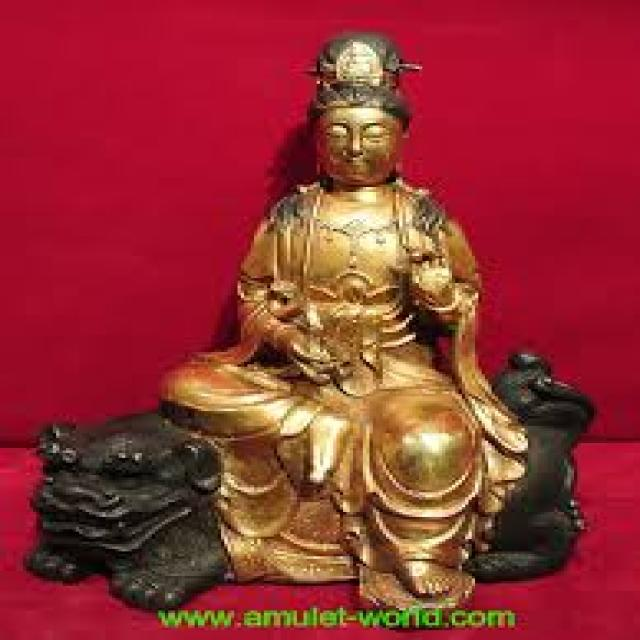Guan Yin: (249, 23, 470, 381)
